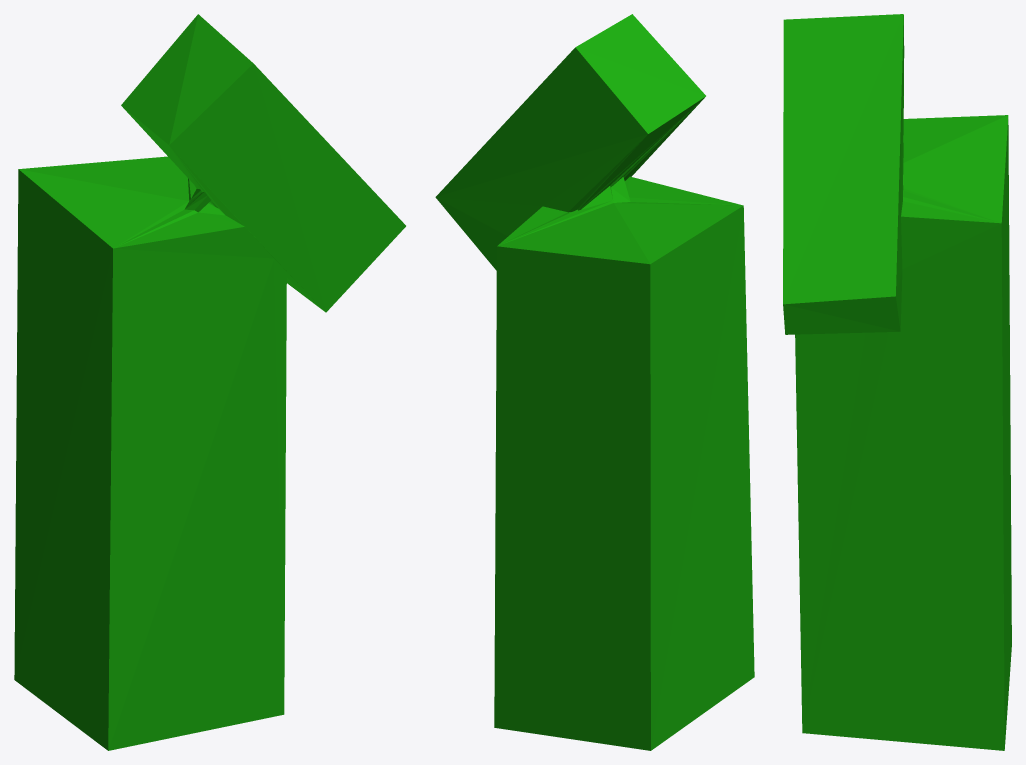
The picture shows the model from 3 angles, left to right: view 1: azimuth 30°, elevation 25°; view 2: azimuth 150°, elevation 25°; view 3: azimuth 270°, elevation 25°; orthographic projection. The views are drawn at different scales.
Parts seen in each view (by area): view 1: 824_Cube.3319; view 2: 824_Cube.3319; view 3: 824_Cube.3319.
Part boxes in pixels (<box>): 824_Cube.3319: <box>14,14,405,750</box>; 824_Cube.3319: <box>435,14,754,750</box>; 824_Cube.3319: <box>783,14,1011,750</box>.
Bounding box in the file's own units: 7.22 × 16.4 × 4.74.
